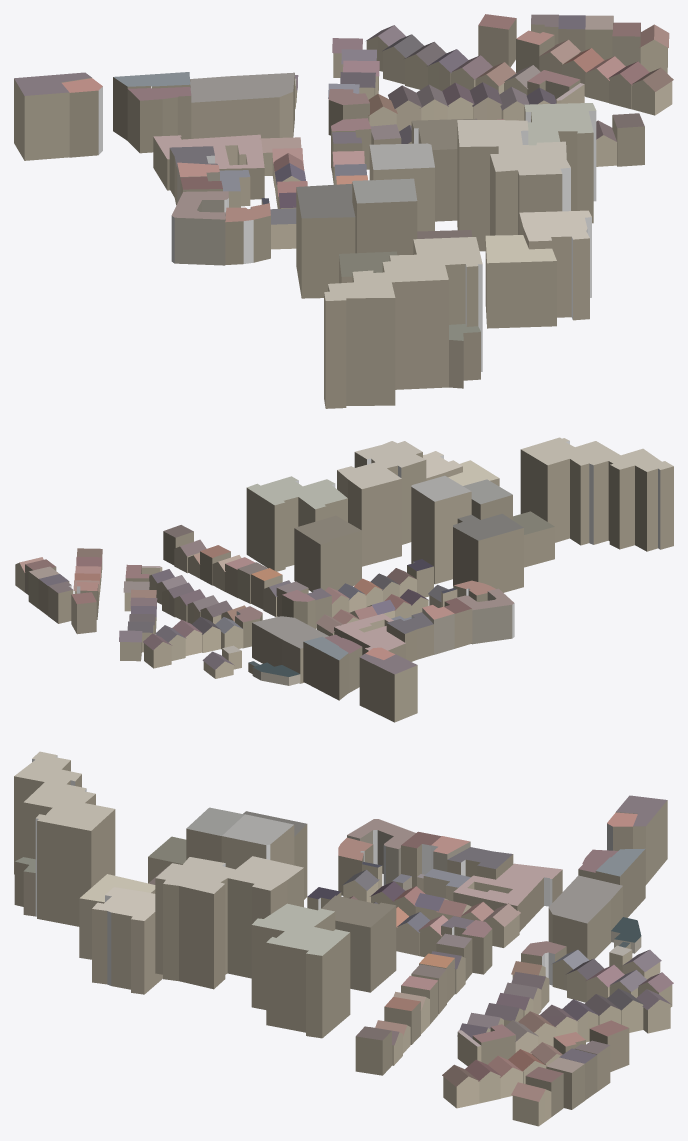
The picture shows the model from 3 angles, top to bottom: view 1: azimuth 30°, elevation 25°; view 2: azimuth 150°, elevation 25°; view 3: azimuth 270°, elevation 25°; orthographic projection. The views are drawn at different scales.
Visible parts, largest first — view 1: tuile; view 2: tuile; view 3: tuile.
Boxes of the visible parts, bbox=[...] form: tuile: bbox=[14, 14, 673, 408]; tuile: bbox=[15, 437, 673, 722]; tuile: bbox=[14, 751, 673, 1126].
Bounding box in the file's own units: 192 × 35.72 × 195.
